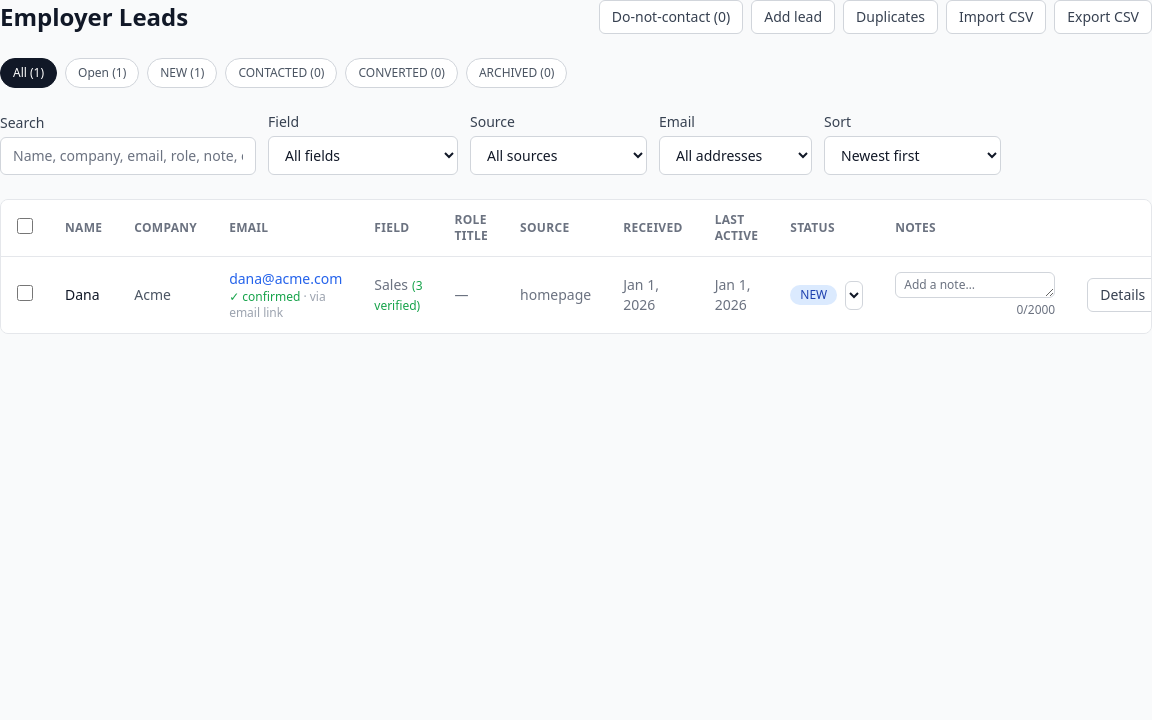
Test: Duplicates: merge is previewed first › choosing a different lead to keep discards the preview (it described another outcome)
The image size is (1152, 720).
Click the button "Duplicates" at (890, 17), box [843,0,938,34]
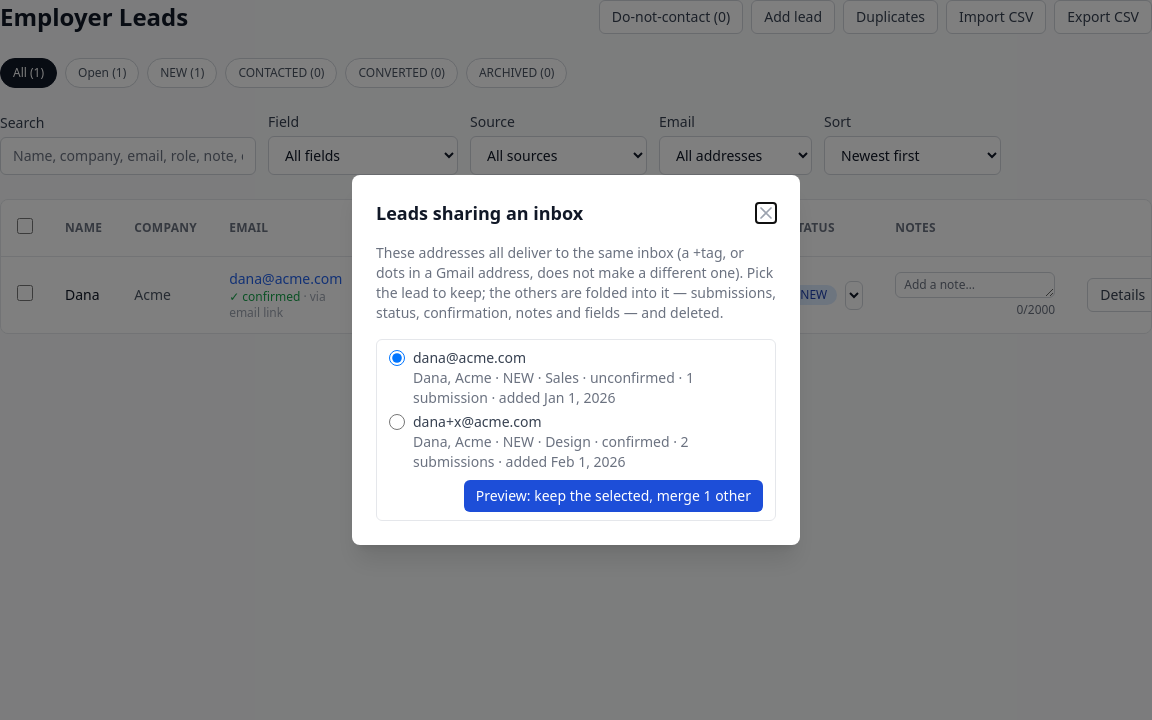
Click the button "Preview: keep the selected, merge 1 other" at (613, 496), box [464,480,763,512]
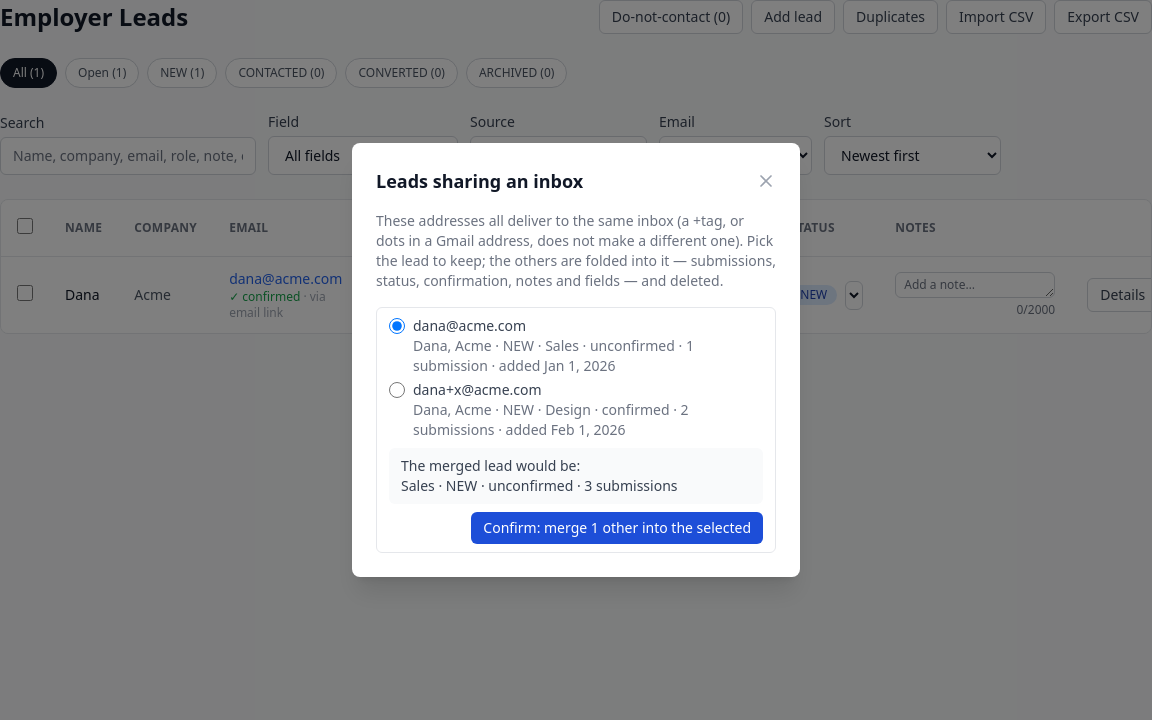
Now the element with test id "merge-preview" is shown, box [389,448,763,504]
Click the 2nd radio button at (397, 390), box [389,382,405,398]
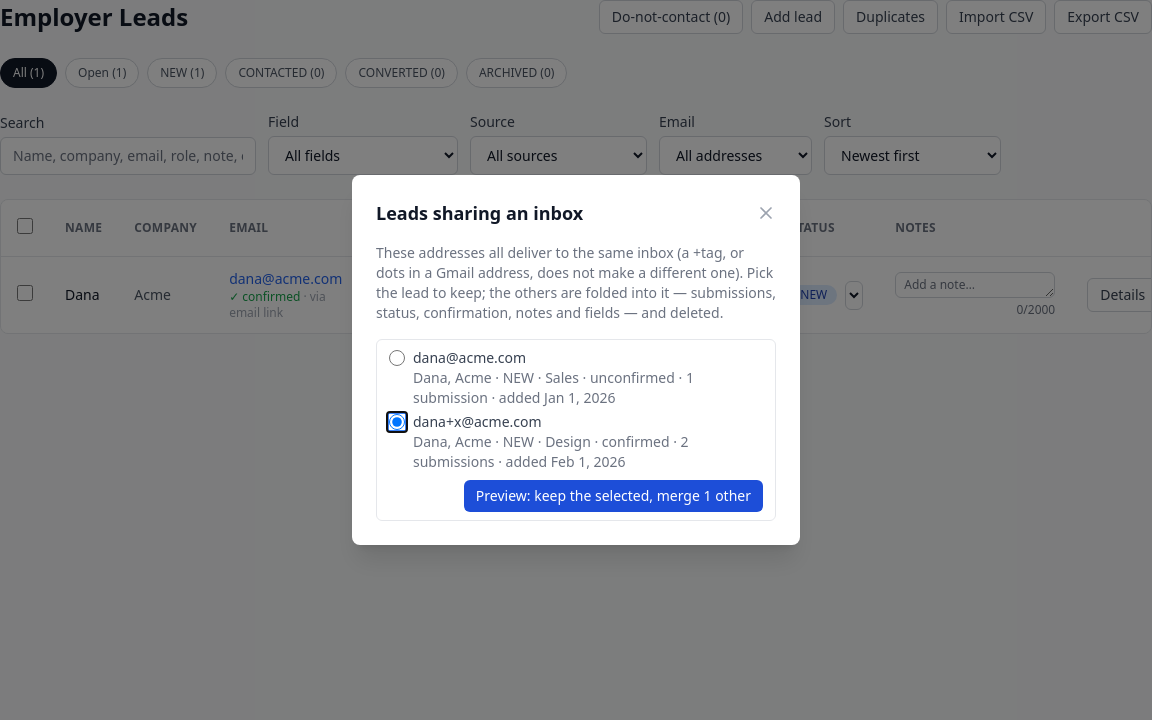
Now the element with test id "merge-preview" is gone
Now the button "Preview: keep the selected, merge 1 other" is shown, box [464,480,763,512]
